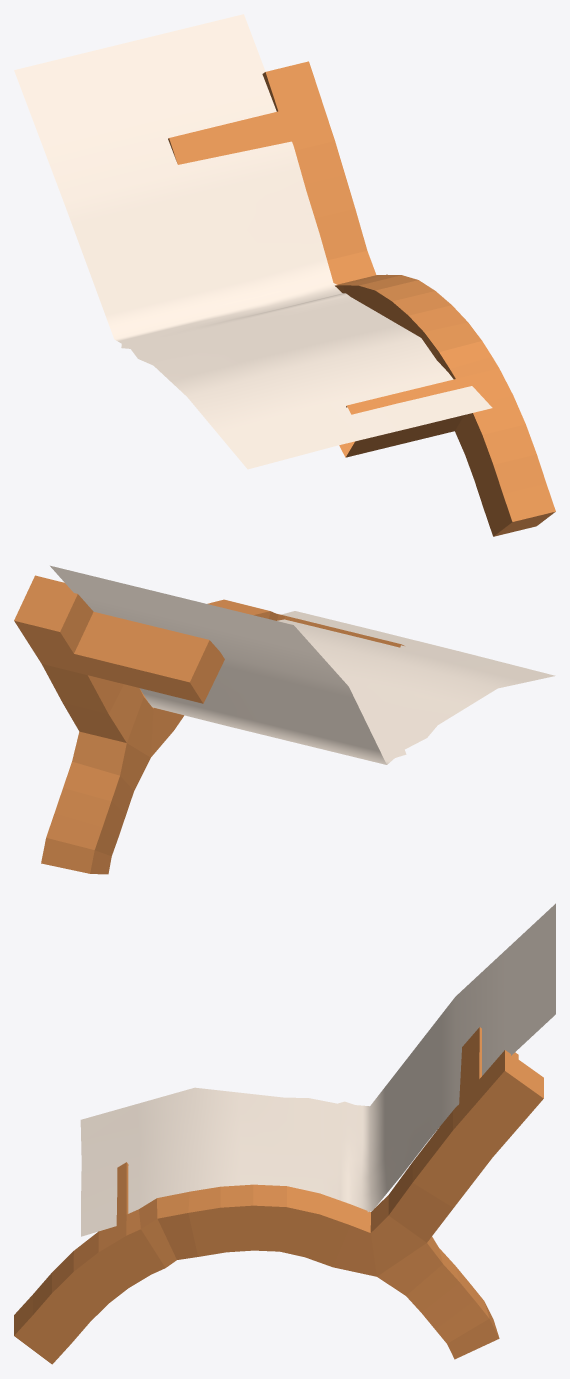
File: Beach chair_Keiko.glb
3 renders of one model, top to bottom at view 1: azimuth 30°, elevation 25°; view 2: azimuth 150°, elevation 25°; view 3: azimuth 270°, elevation 25°, orthographic. The views are drawn at different scales.
Visible parts, largest first — view 1: 平面, 立方体; view 2: 平面, 立方体; view 3: 立方体, 平面.
Boxes of the visible parts, x1=… form: 平面: x1=14, y1=14, x2=492, y2=469; 立方体: x1=168, y1=61, x2=555, y2=536; 平面: x1=50, y1=565, x2=555, y2=764; 立方体: x1=14, y1=575, x2=404, y2=874; 立方体: x1=14, y1=1027, x2=543, y2=1364; 平面: x1=80, y1=903, x2=555, y2=1236.
Size of what is drawn, in the model's own units: 3.89 by 4.43 by 6.55.
